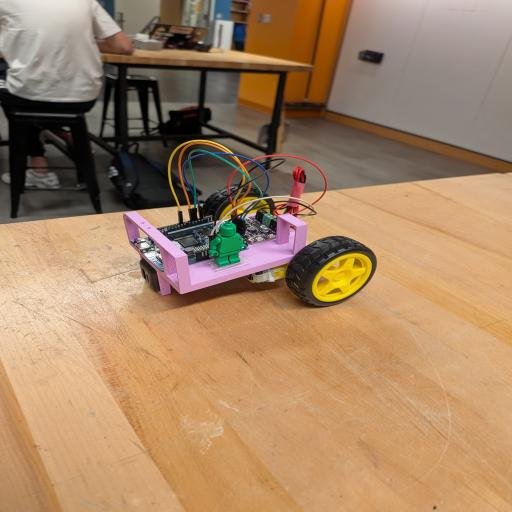Minifig: (209, 222, 247, 266)
